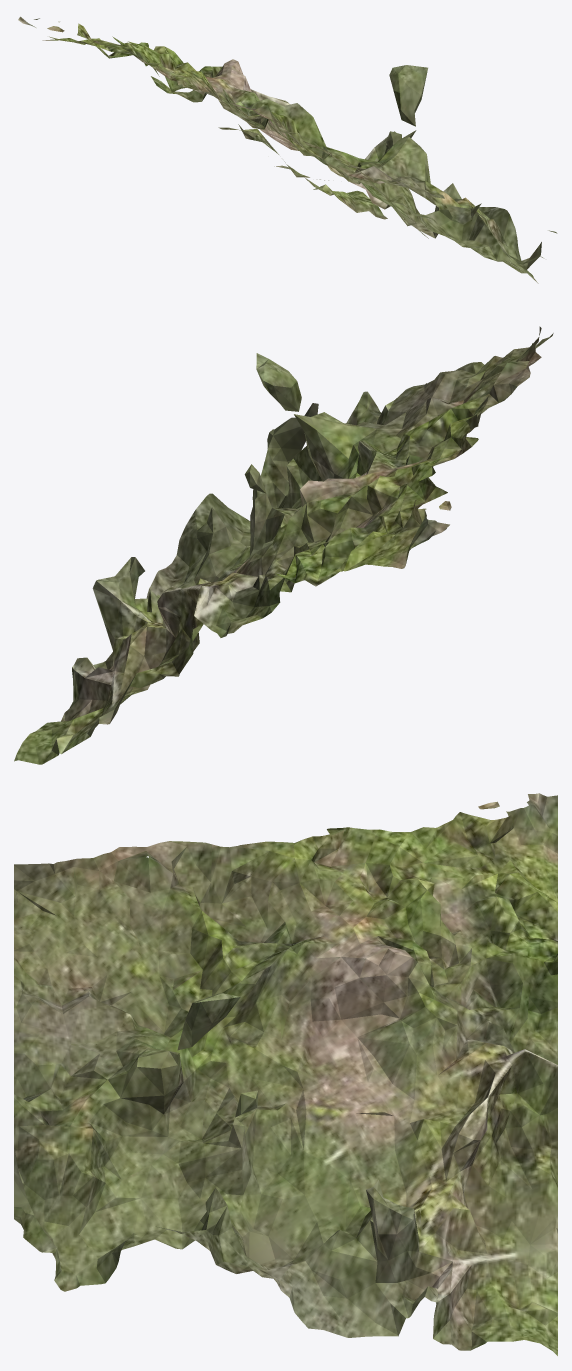
3 views of the same model, one above another, from view 1: azimuth 30°, elevation 25°; view 2: azimuth 150°, elevation 25°; view 3: azimuth 270°, elevation 25° (orthographic). The views are drawn at different scales.
Bounding box in the file's own units: 5.58 × 4.14 × 5.9.
Materials: 3 (3 with a texture image).
